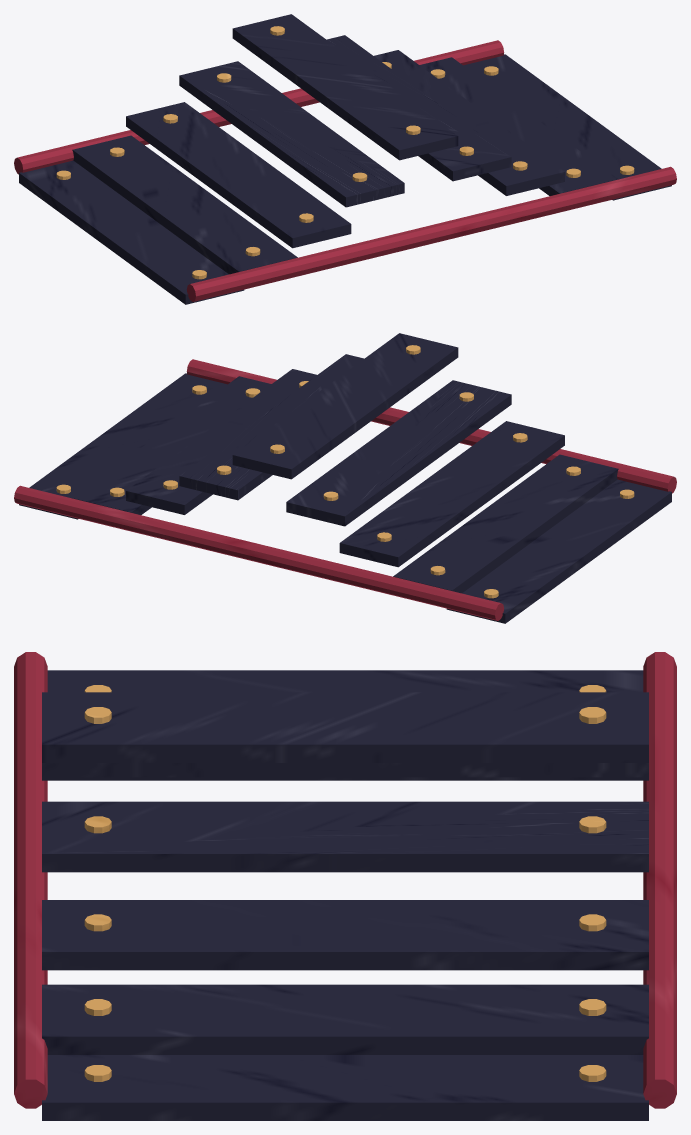
The model's file is dojo_roof_eave_module.obj.
3 views of the same model, one above another, from view 1: azimuth 30°, elevation 25°; view 2: azimuth 150°, elevation 25°; view 3: azimuth 270°, elevation 25° (orthographic). The views are drawn at different scales.
Parts seen in each view (by area): view 1: geometry_22, geometry_20, geometry_21, geometry_19, geometry_18, geometry_28, geometry_26, geometry_25, geometry_24, geometry_23, geometry_27; view 2: geometry_22, geometry_20, geometry_21, geometry_19, geometry_18, geometry_27, geometry_26, geometry_25, geometry_24, geometry_23, geometry_28; view 3: geometry_23, geometry_24, geometry_22, geometry_25, geometry_26, geometry_27, geometry_28, geometry_18, geometry_21, geometry_20.
Boxes of the visible parts, x1,y1,x2,y2 form: geometry_22: (232, 14, 458, 160); geometry_20: (126, 102, 351, 248); geometry_21: (179, 61, 404, 207); geometry_19: (72, 135, 297, 274); geometry_18: (19, 160, 244, 304); geometry_28: (186, 166, 676, 301); geometry_26: (463, 54, 671, 200); geometry_25: (419, 57, 618, 195); geometry_24: (374, 50, 564, 195); geometry_23: (327, 35, 511, 181); geometry_27: (14, 40, 504, 174); geometry_22: (232, 333, 458, 479); geometry_20: (339, 421, 564, 567); geometry_21: (286, 380, 511, 526); geometry_19: (393, 454, 618, 593); geometry_18: (446, 479, 671, 623); geometry_27: (14, 485, 504, 620); geometry_26: (19, 373, 227, 519); geometry_25: (72, 376, 271, 514); geometry_24: (126, 369, 316, 514); geometry_23: (179, 354, 363, 500); geometry_28: (186, 359, 676, 493); geometry_23: (42, 801, 648, 872); geometry_24: (42, 900, 648, 970); geometry_22: (42, 692, 648, 762); geometry_25: (42, 984, 648, 1054); geometry_26: (42, 1055, 648, 1120); geometry_27: (643, 652, 676, 1108); geometry_28: (14, 652, 47, 1108); geometry_18: (47, 670, 643, 692); geometry_21: (42, 763, 648, 777); geometry_20: (42, 777, 648, 780).
Size of the model in its own units: 9.1 by 1.89 by 5.9.
Materials: 3 (3 with a texture image).
